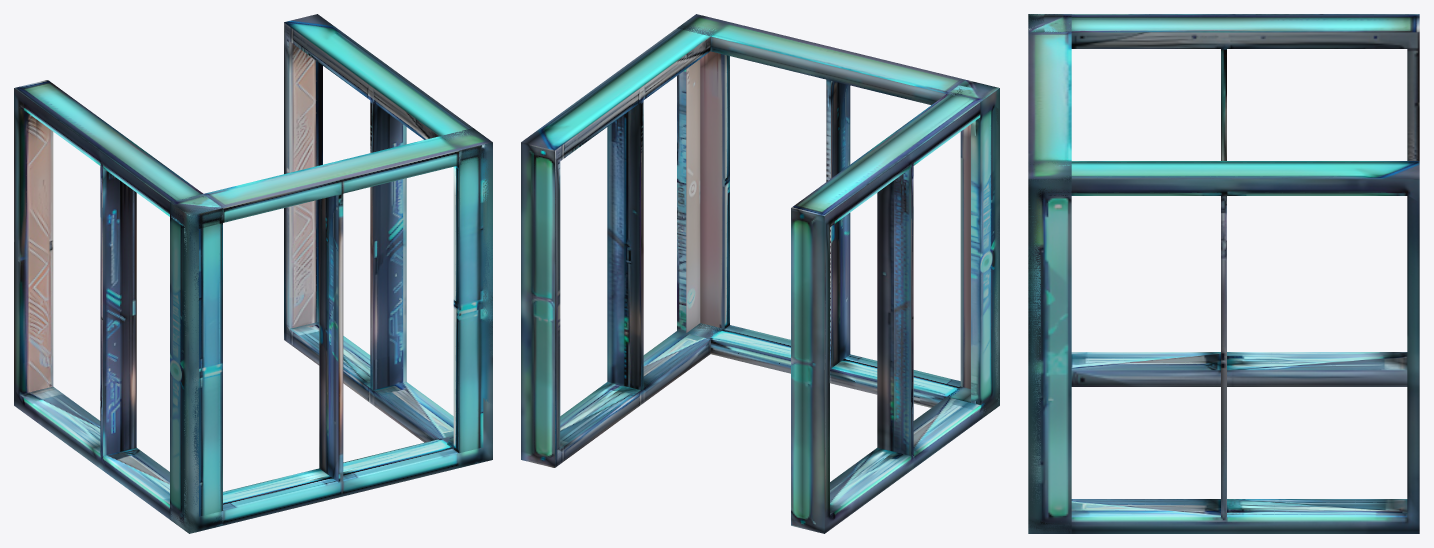
Rendered from commercialBasicWindowedWall3.glb.
The picture shows the model from 3 angles, left to right: view 1: azimuth 30°, elevation 25°; view 2: azimuth 150°, elevation 25°; view 3: azimuth 270°, elevation 25°; orthographic projection. The views are drawn at different scales.
Visible parts, largest first — view 1: commercialBasicWindowedWall3; view 2: commercialBasicWindowedWall3; view 3: commercialBasicWindowedWall3.
Boxes of the visible parts, x1,y1,x2,y2 form: commercialBasicWindowedWall3: (14,14,492,533); commercialBasicWindowedWall3: (521,14,999,533); commercialBasicWindowedWall3: (1028,14,1419,533).
Size of the model in its own units: 1 by 1 by 1.
1 material, 1 textured.
